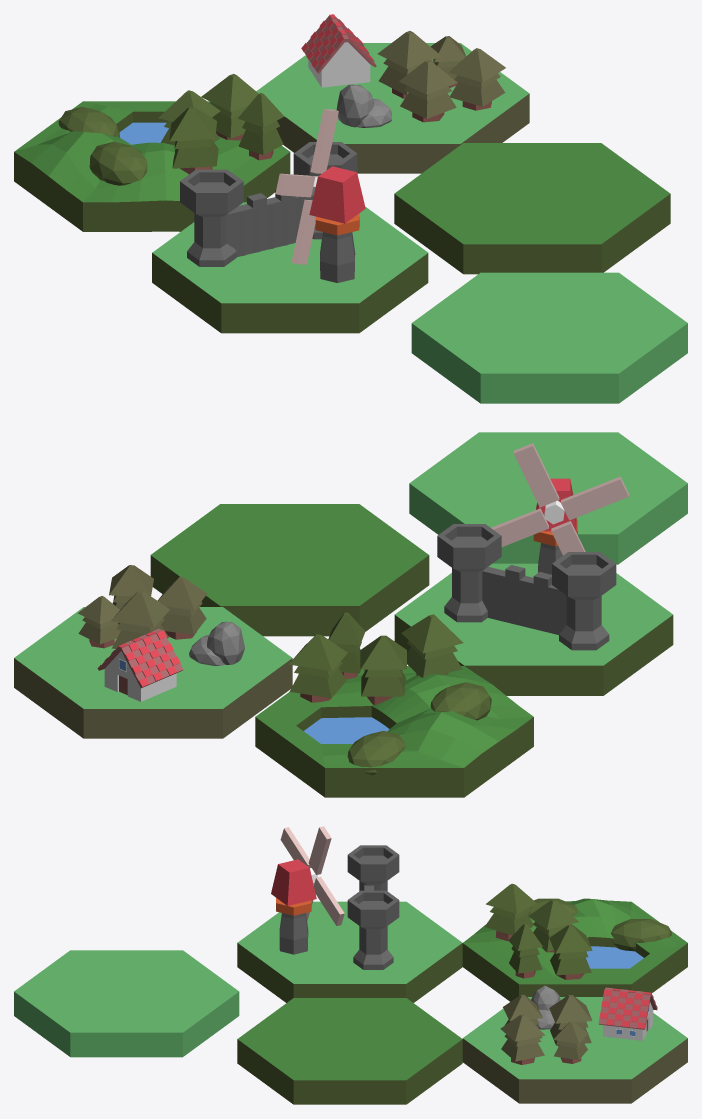
The model's file is Green.fbx.
3 renders of one model, top to bottom at view 1: azimuth 30°, elevation 25°; view 2: azimuth 150°, elevation 25°; view 3: azimuth 270°, elevation 25°, orthographic. The views are drawn at different scales.
Parts seen in each view (by area): view 1: Cube.002, Cube.001, Cube.004, Cylinder.003, Cylinder.013; view 2: Cube.002, Cylinder.003, Cylinder.013, Cube.004, Cube.001; view 3: Cube.002, Cylinder.013, Cube.001, Cube.004, Cylinder.003.
Boxes of the visible parts, x1,y1,x2,y2 form: Cube.002: [152, 109, 428, 333]; Cube.001: [411, 272, 687, 403]; Cube.004: [394, 143, 670, 274]; Cylinder.003: [14, 74, 290, 231]; Cylinder.013: [256, 14, 529, 173]; Cube.002: [394, 443, 673, 695]; Cylinder.003: [255, 612, 533, 797]; Cylinder.013: [14, 565, 292, 738]; Cube.004: [150, 504, 429, 636]; Cube.001: [409, 432, 687, 564]; Cube.002: [237, 826, 462, 1002]; Cylinder.013: [462, 985, 687, 1103]; Cube.001: [14, 950, 239, 1057]; Cube.004: [237, 998, 462, 1104]; Cylinder.003: [462, 883, 687, 1001].
Size of the model in its own units: 376 by 145 by 598.
